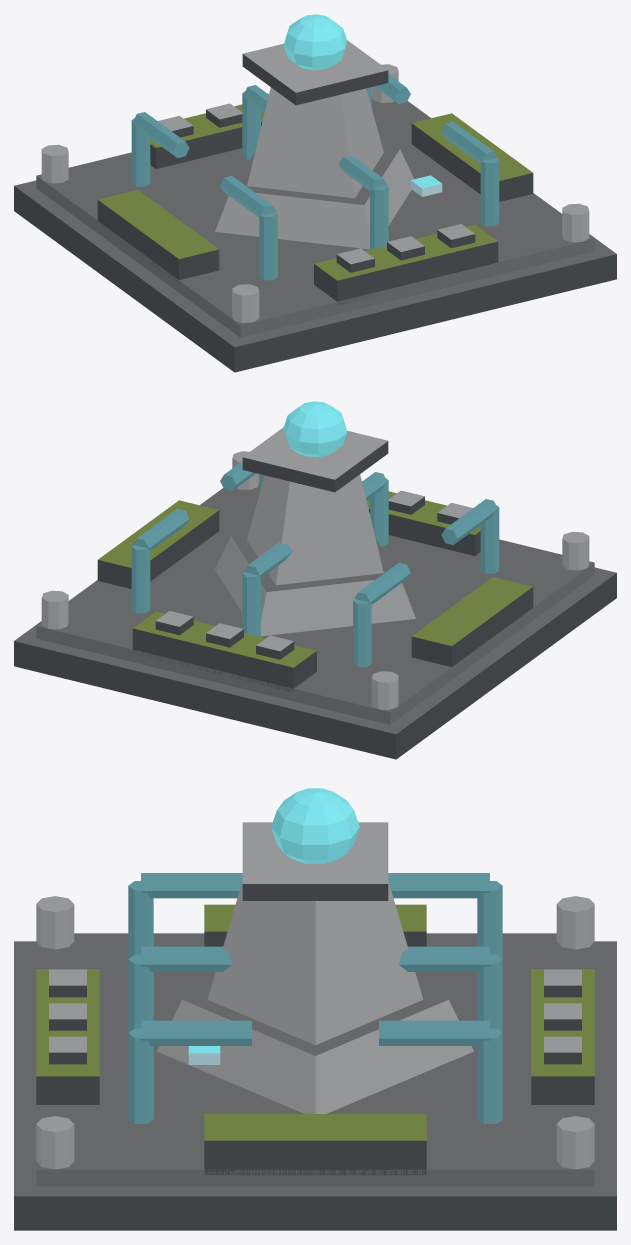
Rendered from Building_MultiAnalyzer.glb.
3 renders of one model, top to bottom at view 1: azimuth 30°, elevation 25°; view 2: azimuth 150°, elevation 25°; view 3: azimuth 270°, elevation 25°, orthographic. The views are drawn at different scales.
Parts seen in each view (by area): view 1: MultiAnalyzer; view 2: MultiAnalyzer; view 3: MultiAnalyzer.
Boxes of the visible parts, <box> form: MultiAnalyzer: <box>14,14,616,372</box>; MultiAnalyzer: <box>14,401,616,759</box>; MultiAnalyzer: <box>14,788,616,1230</box>.
Size of the model in its own units: 1.9 by 1.08 by 1.9.
1 material, 1 textured.
